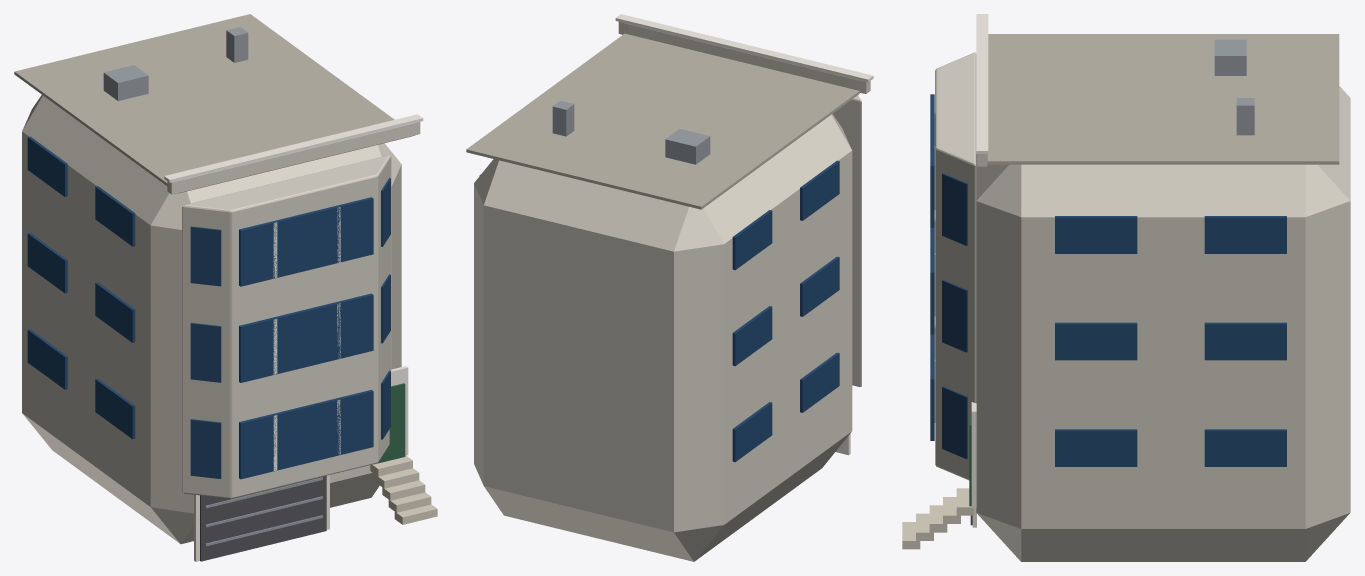
Rendered from rich_w9_tall.glb.
3 renders of one model, left to right at view 1: azimuth 30°, elevation 25°; view 2: azimuth 150°, elevation 25°; view 3: azimuth 270°, elevation 25°, orthographic. The views are drawn at different scales.
Parts seen in each view (by area): view 1: walls, bay, roofslab, bw.002, bw.001, bw, gdoor, pp, pcap, bwa.004, bwa, bwa.002 (+19 smaller); view 2: walls, roofslab, bay, pp, pcap, sb.002, sb.006, sb.010, sb.008, sb, sb.004, hvac (+1 smaller); view 3: walls, roofslab, bay, sb.005, sb.007, sb.001, sb.003, sb.009, sb.011, pcap, bwa.001, bwa.003 (+5 smaller).
Boxes of the visible parts, left/top/right/bottom form: walls: left=22, top=95, right=401, bottom=543; bay: left=182, top=155, right=391, bottom=498; roofslab: left=14, top=14, right=394, bottom=185; bw.002: left=239, top=197, right=373, bottom=286; bw.001: left=239, top=293, right=373, bottom=382; bw: left=239, top=390, right=373, bottom=479; gdoor: left=200, top=476, right=326, bottom=561; pp: left=167, top=122, right=420, bottom=194; pcap: left=164, top=114, right=423, bottom=182; bwa.004: left=190, top=226, right=221, bottom=286; bwa: left=190, top=419, right=221, bottom=478; bwa.002: left=190, top=322, right=221, bottom=382; walls: left=474, top=114, right=852, bottom=561; roofslab: left=466, top=33, right=859, bottom=209; bay: left=832, top=95, right=861, bottom=386; pp: left=618, top=22, right=870, bottom=93; pcap: left=615, top=14, right=873, bottom=82; sb.002: left=732, top=402, right=772, bottom=462; sb.006: left=732, top=306, right=772, bottom=366; sb.010: left=732, top=210, right=772, bottom=270; sb.008: left=800, top=160, right=839, bottom=220; sb: left=800, top=352, right=839, bottom=412; sb.004: left=800, top=256, right=839, bottom=316; hvac: left=665, top=129, right=710, bottom=164; walls: left=976, top=86, right=1350, bottom=561; roofslab: left=987, top=34, right=1339, bottom=164; bay: left=935, top=52, right=976, bottom=480; sb.005: left=1055, top=322, right=1137, bottom=360; sb.007: left=1204, top=322, right=1286, bottom=360; sb.001: left=1055, top=429, right=1137, bottom=466; sb.003: left=1204, top=429, right=1286, bottom=466; sb.009: left=1055, top=216, right=1137, bottom=253; sb.011: left=1204, top=216, right=1286, bottom=253; pcap: left=976, top=14, right=988, bottom=153; bwa.001: left=942, top=386, right=967, bottom=458; bwa.003: left=942, top=280, right=967, bottom=352.
Bounding box in the file's own units: 9.2 × 13.7 × 12.57.
